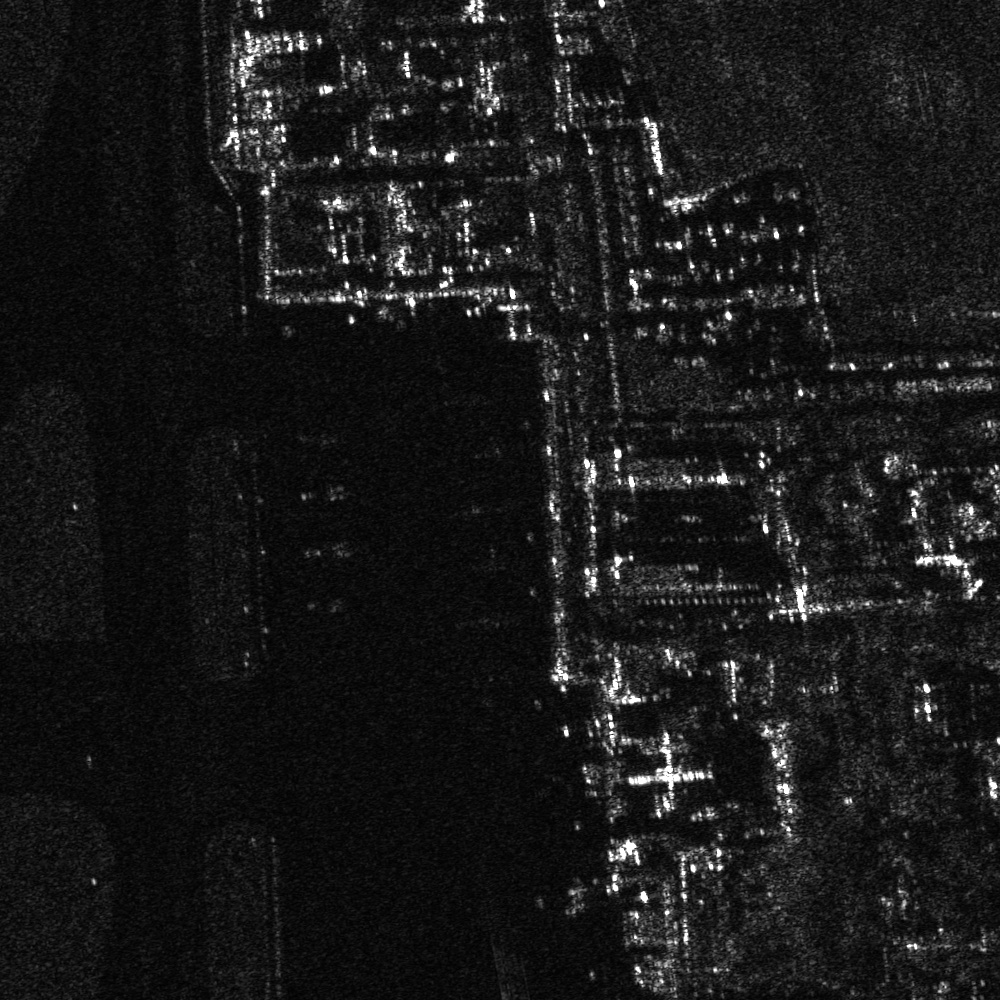ARJ21: (293, 537, 363, 566), (301, 590, 355, 619)
other: (296, 475, 357, 510)
